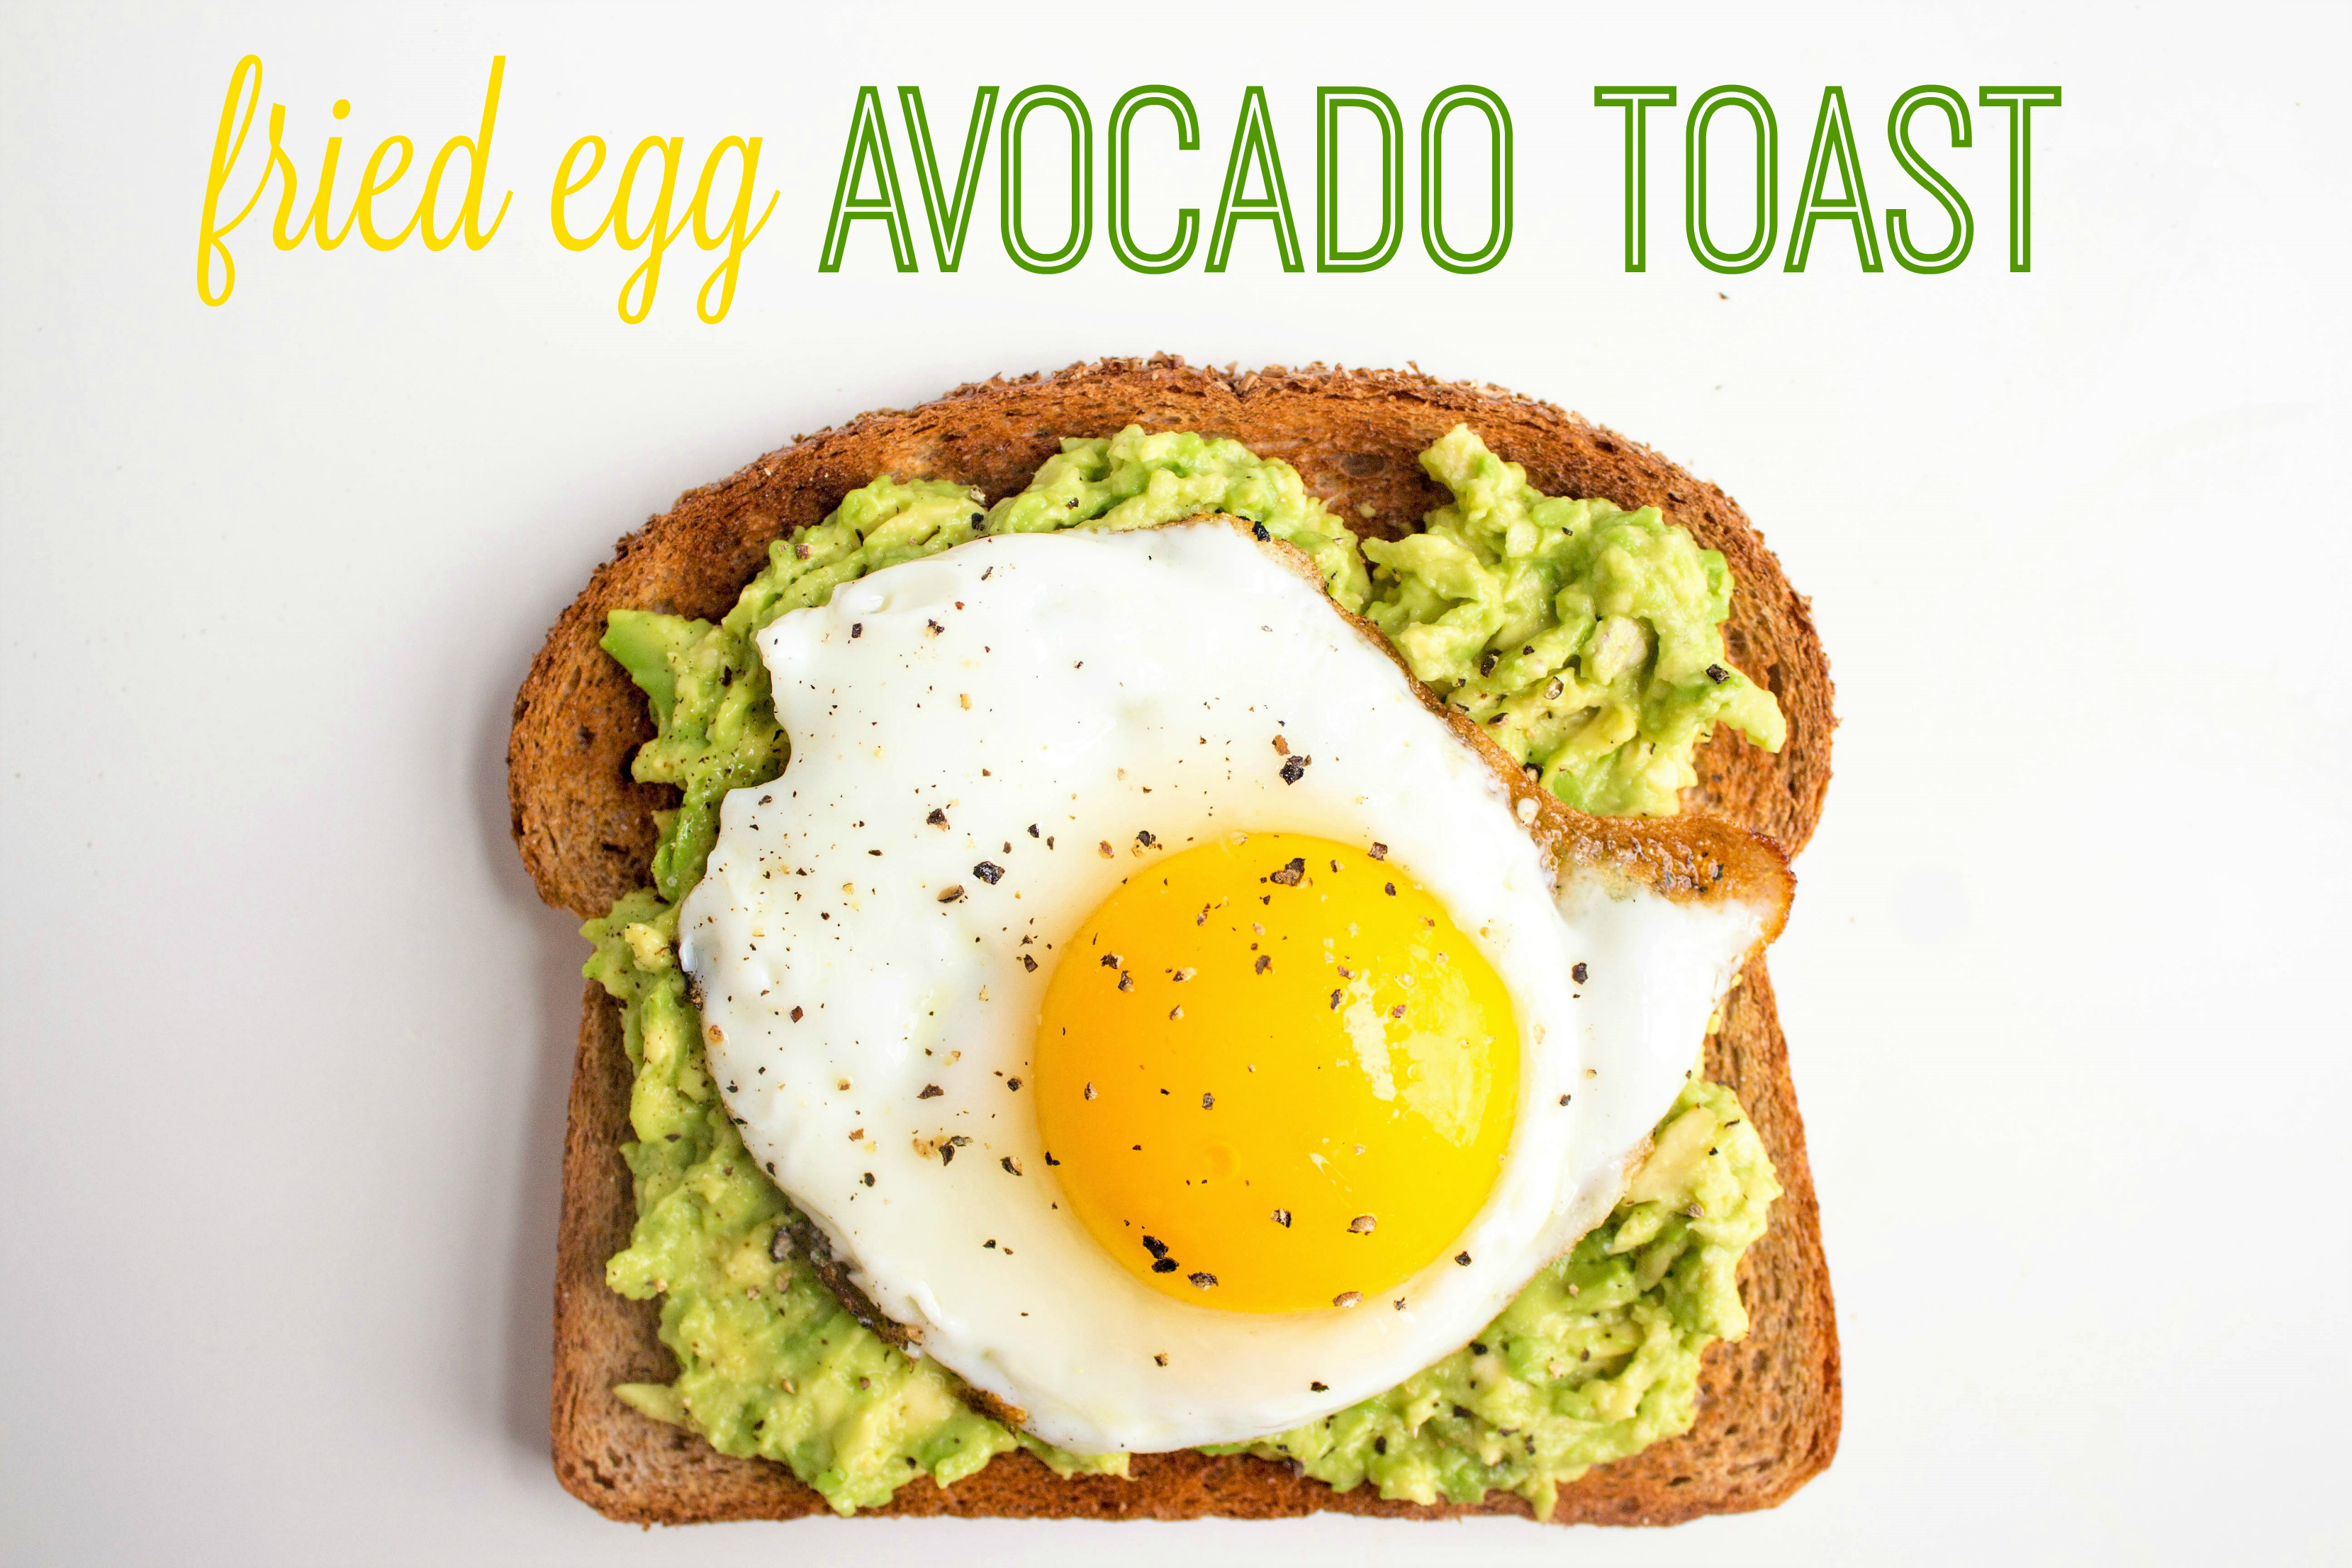fried egg: (791, 630, 1584, 1381)
